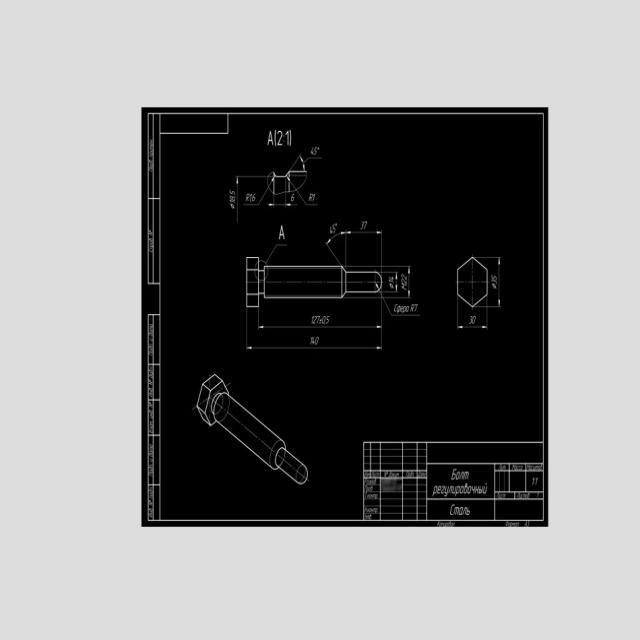marking_line: (258, 324, 382, 330), (245, 346, 383, 351), (267, 202, 299, 209), (236, 175, 239, 219)
numeric: (392, 303, 420, 313), (310, 315, 332, 325), (229, 187, 237, 213), (266, 127, 275, 147), (278, 222, 286, 241), (399, 274, 407, 293), (244, 192, 257, 202), (467, 314, 478, 325), (310, 146, 320, 158), (309, 336, 321, 346), (491, 274, 498, 291), (277, 130, 284, 147), (360, 217, 367, 233), (329, 224, 337, 236), (388, 275, 394, 290), (308, 194, 316, 204), (285, 131, 290, 146)
